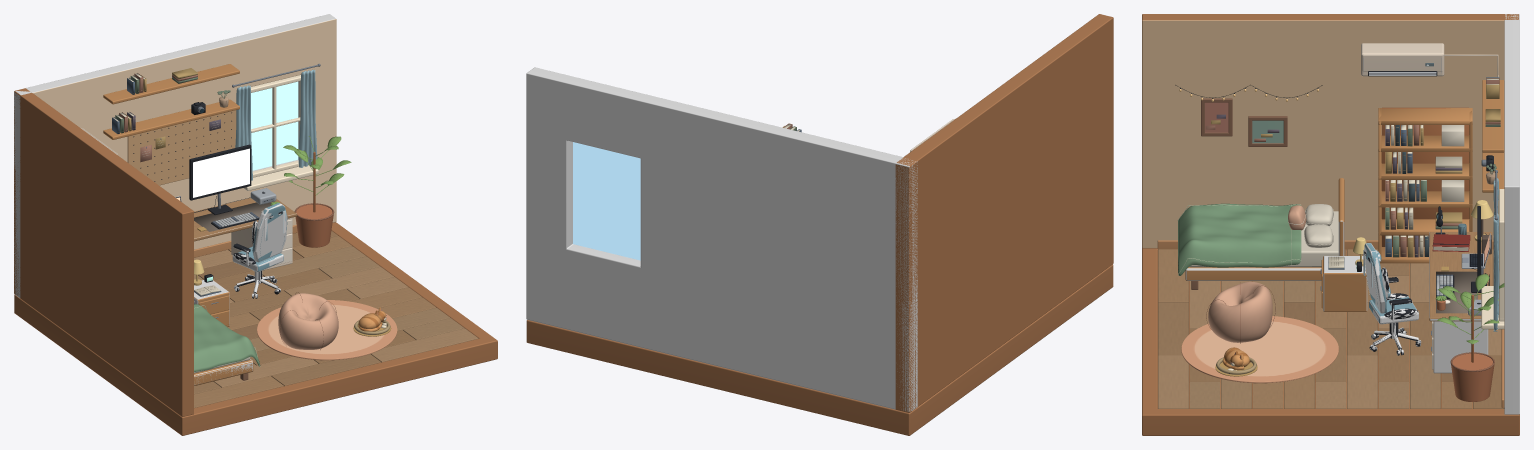
The model's file is room.glb.
The picture shows the model from 3 angles, left to right: view 1: azimuth 30°, elevation 25°; view 2: azimuth 150°, elevation 25°; view 3: azimuth 270°, elevation 25°; orthographic projection. The views are drawn at different scales.
Visible parts, largest first — view 1: Bake_Room, RBN_PegboardWood, RBN_DetailedOak, RBN_DetailedRug, V2_Room_Glass | Day, RBN_DetailedTerracotta, LargeFurnitureShadows, RBN_DetailedQuilt, RBN_DetailedCurtain, RBN_WindowFrame, Computer_Screen, RBN_PalettePot (+8 smaller); view 2: Bake_Room, V2_Room_Glass | Day; view 3: Bake_Room, Bookshelf, RBN_DetailedQuilt, RBN_DetailedRug, RBN_DetailedOak, LargeFurnitureShadows, RBN_DetailedTerracotta, Cube.2425, RBN_DetailedLinen, RBN_DetailedOak | Desk, RBN_PalettePot, RBN_WindowFrame (+12 smaller).
Part boxes in pixels (box(x1,y1,x2,y2)): Bake_Room: box(14, 14, 497, 435); RBN_PegboardWood: box(127, 110, 236, 185); RBN_DetailedOak: box(103, 64, 253, 385); RBN_DetailedRug: box(257, 300, 397, 360); V2_Room_Glass | Day: box(251, 81, 298, 170); RBN_DetailedTerracotta: box(278, 293, 338, 349); LargeFurnitureShadows: box(194, 203, 296, 385); RBN_DetailedQuilt: box(194, 304, 260, 371); RBN_DetailedCurtain: box(235, 69, 317, 180); RBN_WindowFrame: box(243, 75, 318, 190); Computer_Screen: box(193, 148, 249, 197); RBN_PalettePot: box(295, 204, 333, 247); Bake_Room: box(526, 14, 1113, 435); V2_Room_Glass | Day: box(573, 142, 640, 260); Bake_Room: box(1142, 14, 1519, 435); Bookshelf: box(1378, 107, 1472, 263); RBN_DetailedQuilt: box(1178, 203, 1301, 275); RBN_DetailedRug: box(1181, 316, 1338, 383); RBN_DetailedOak: box(1185, 80, 1504, 311); LargeFurnitureShadows: box(1185, 220, 1488, 373); RBN_DetailedTerracotta: box(1208, 205, 1306, 342); Cube.2425: box(1361, 43, 1444, 76); RBN_DetailedLinen: box(1189, 204, 1338, 267); RBN_DetailedOak | Desk: box(1429, 232, 1492, 321); RBN_PalettePot: box(1437, 300, 1494, 401); RBN_WindowFrame: box(1481, 189, 1504, 329).
Size of the model in its own units: 5.2 by 3.5 by 4.8.
75 materials, 4 textured.
